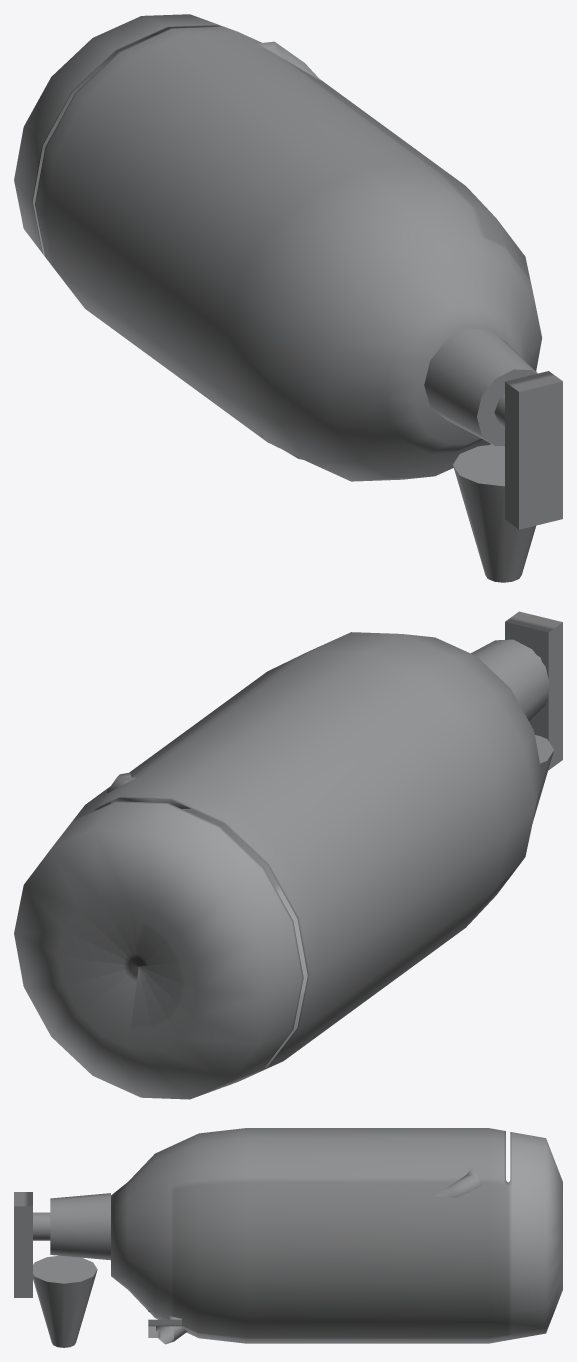
The picture shows the model from 3 angles, top to bottom: view 1: azimuth 30°, elevation 25°; view 2: azimuth 150°, elevation 25°; view 3: azimuth 270°, elevation 25°; orthographic projection. The views are drawn at different scales.
Bounding box in the file's own units: 0.2944 × 0.3082 × 0.7489.
